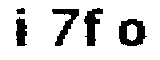7: (49, 3, 81, 51)
f: (84, 5, 104, 53)
i: (13, 3, 38, 52)
o: (114, 15, 145, 51)
